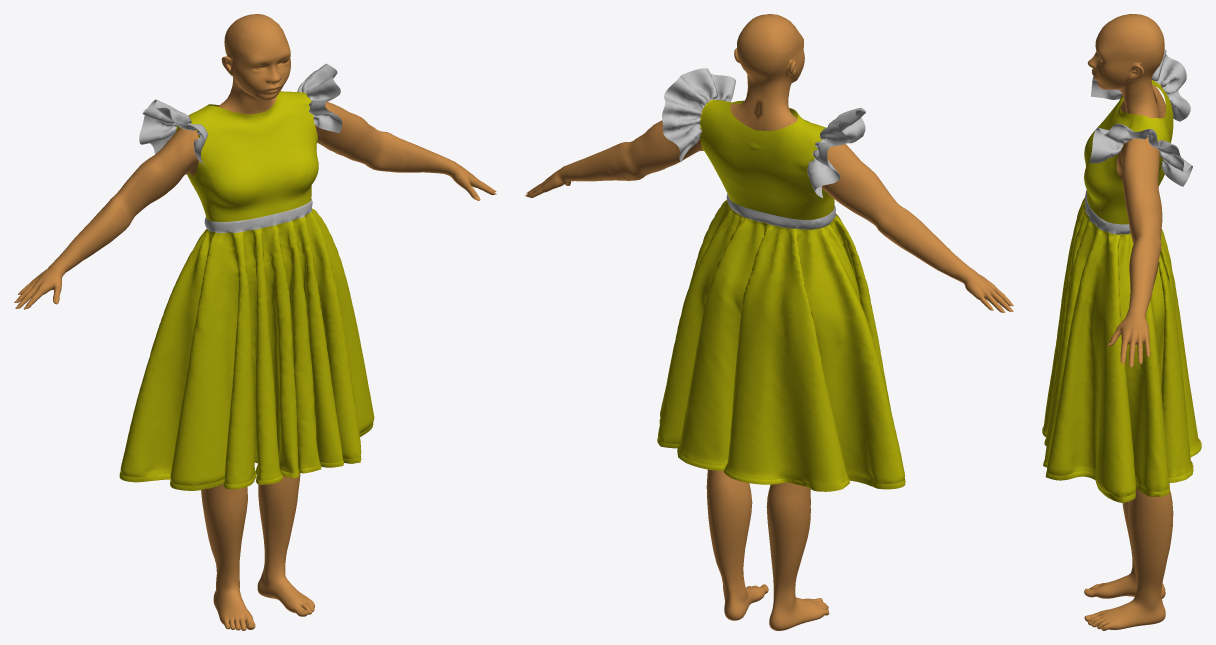
Rendered from dress10.glb.
3 views of the same model, side by side, from view 1: azimuth 30°, elevation 25°; view 2: azimuth 150°, elevation 25°; view 3: azimuth 270°, elevation 25° (orthographic).
Parts seen in each view (by area): view 1: PinkDrees#14 (OBJ), Body; view 2: PinkDrees#14 (OBJ), Body; view 3: PinkDrees#14 (OBJ), Body.
Boxes of the visible parts, left/top/right/bottom form: PinkDrees#14 (OBJ): left=119, top=63, right=374, bottom=490; Body: left=16, top=14, right=496, bottom=630; PinkDrees#14 (OBJ): left=657, top=68, right=905, bottom=491; Body: left=526, top=14, right=1010, bottom=630; PinkDrees#14 (OBJ): left=1042, top=49, right=1201, bottom=502; Body: left=1084, top=14, right=1173, bottom=630.
Size of the model in its own units: 1.58 by 1.85 by 0.451.
